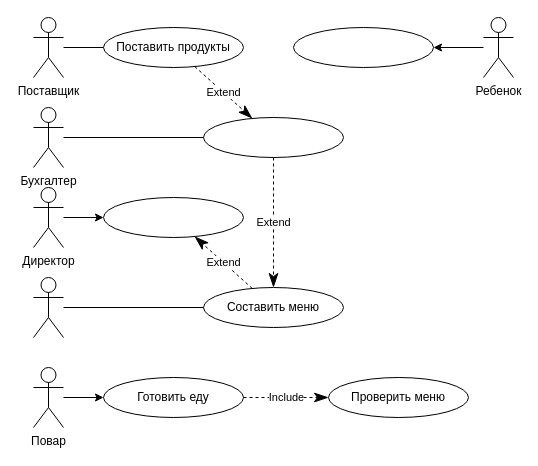
Some shapes in this 538 by 466 pixel diagram are drawn without their labels. The box of each missing label's shape, as (x1, y1, x2, y2) in pixels:
Диетолог: (32, 276, 64, 338)
Заказать продукты: (202, 116, 344, 158)
Запросить меню: (102, 196, 244, 238)
Хочу кушац: (292, 26, 434, 68)
